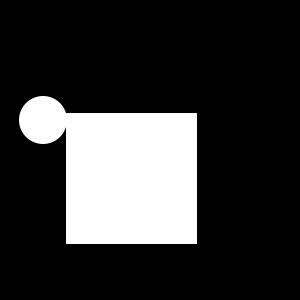circle: (66, 113, 197, 244)
rectangle: (19, 96, 67, 144)
